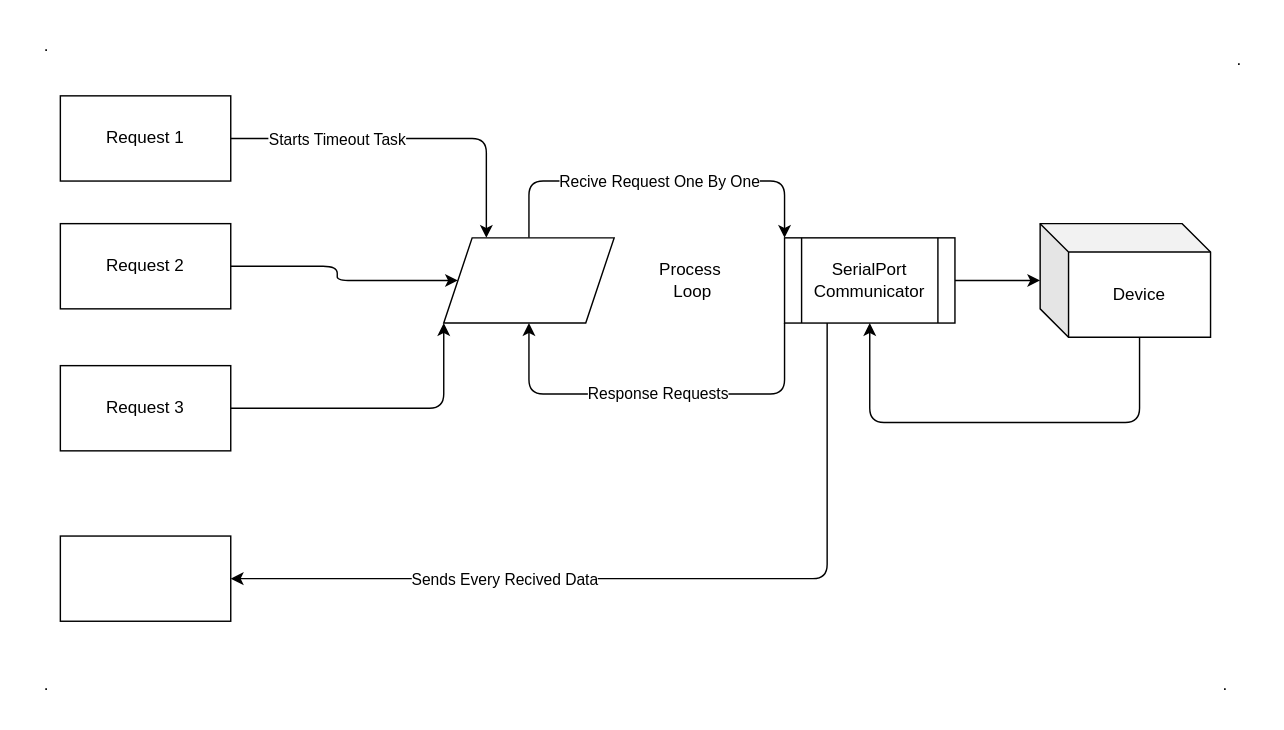
Some shapes in this 1284 by 730 pixel diagram are drawn without their labels. Each missing label, with the box of its shape:
MessageHandler: (59, 535, 231, 621)
Queue: (442, 236, 614, 323)
